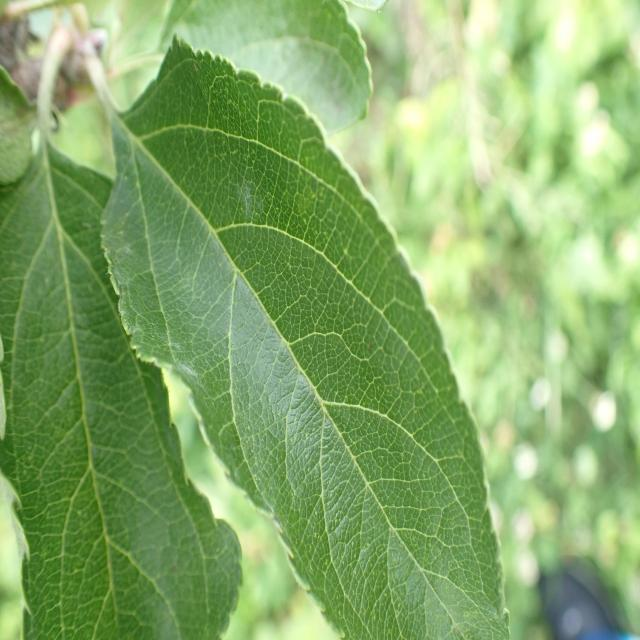Powdery_mildew: (98, 32, 513, 634)
